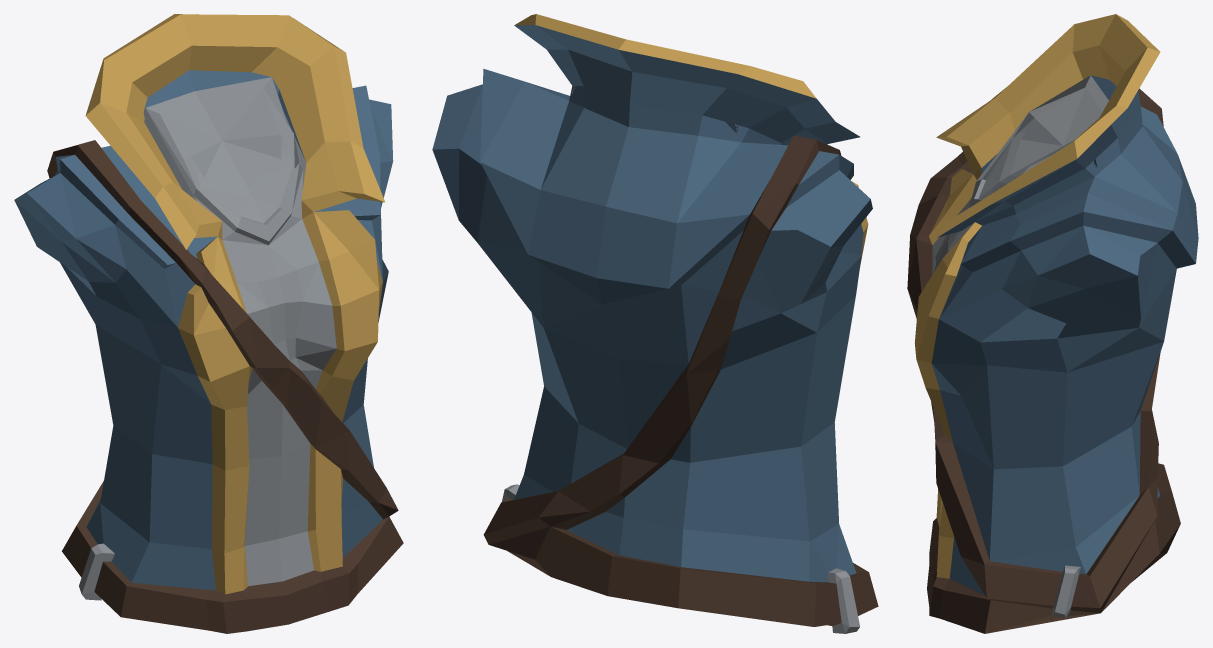
The model's file is Chr_Torso_Female_27_Static.fbx.
3 views of the same model, side by side, from view 1: azimuth 30°, elevation 25°; view 2: azimuth 150°, elevation 25°; view 3: azimuth 270°, elevation 25° (orthographic). The views are drawn at different scales.
Visible parts, largest first — view 1: Chr_Torso_Female_27_Static; view 2: Chr_Torso_Female_27_Static; view 3: Chr_Torso_Female_27_Static.
Boxes of the visible parts, x1,y1,x2,y2 form: Chr_Torso_Female_27_Static: (14, 14, 403, 633); Chr_Torso_Female_27_Static: (432, 14, 878, 633); Chr_Torso_Female_27_Static: (907, 14, 1198, 633).
Bounding box in the file's own units: 0.5172 × 0.7319 × 0.351.
